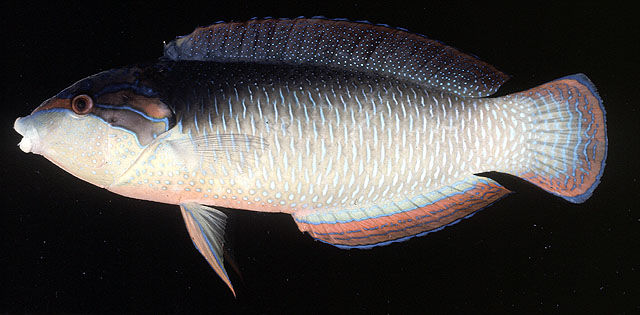fish: (14, 18, 607, 295)
